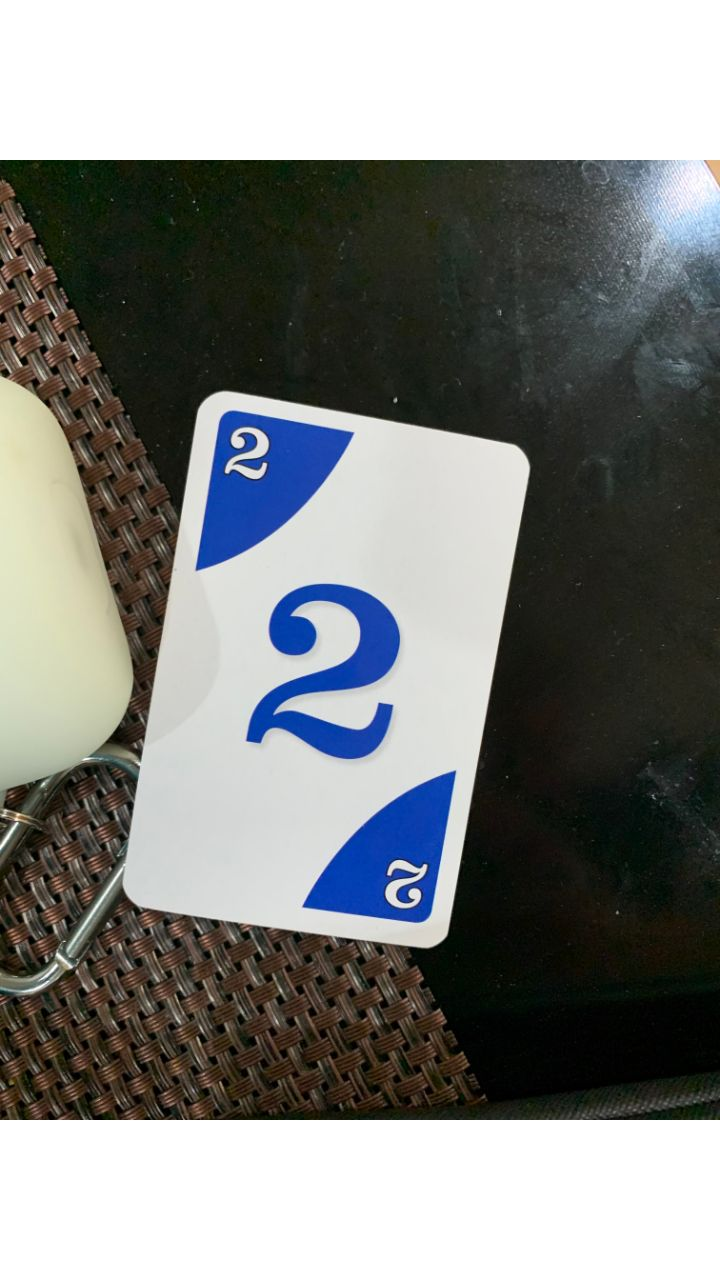two: (123, 383, 533, 956)
